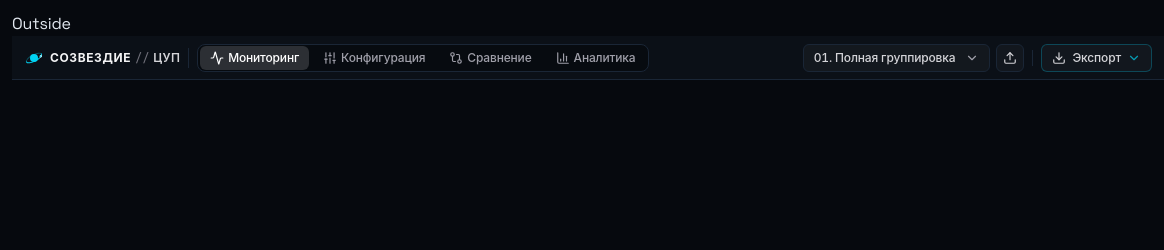
Header › closes dropdown on click outside
The image size is (1164, 250).
Click the button "01. Полная группировка".
click(897, 58)  # box [803,44,990,72]
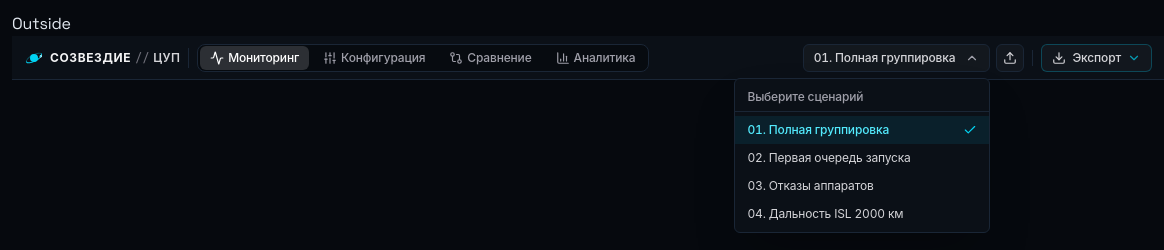
Result: the text "Выберите сценарий" is shown at [735,82,989,112]
Note: Click outside
Press the mouse on the text with test id "outside" at (41, 24), box [12,13,71,34]
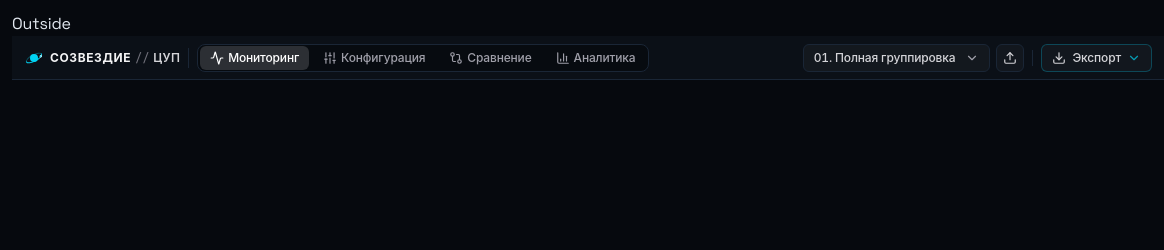
Result: the text "Выберите сценарий" is gone
